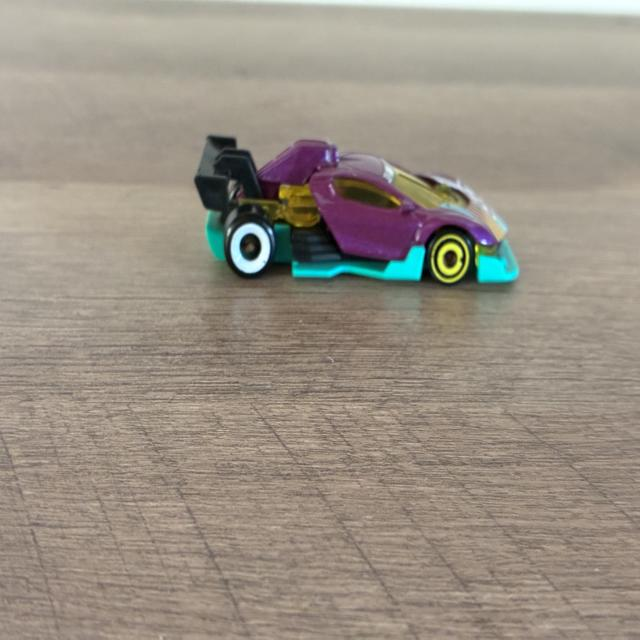cars: (195, 135, 519, 294)
